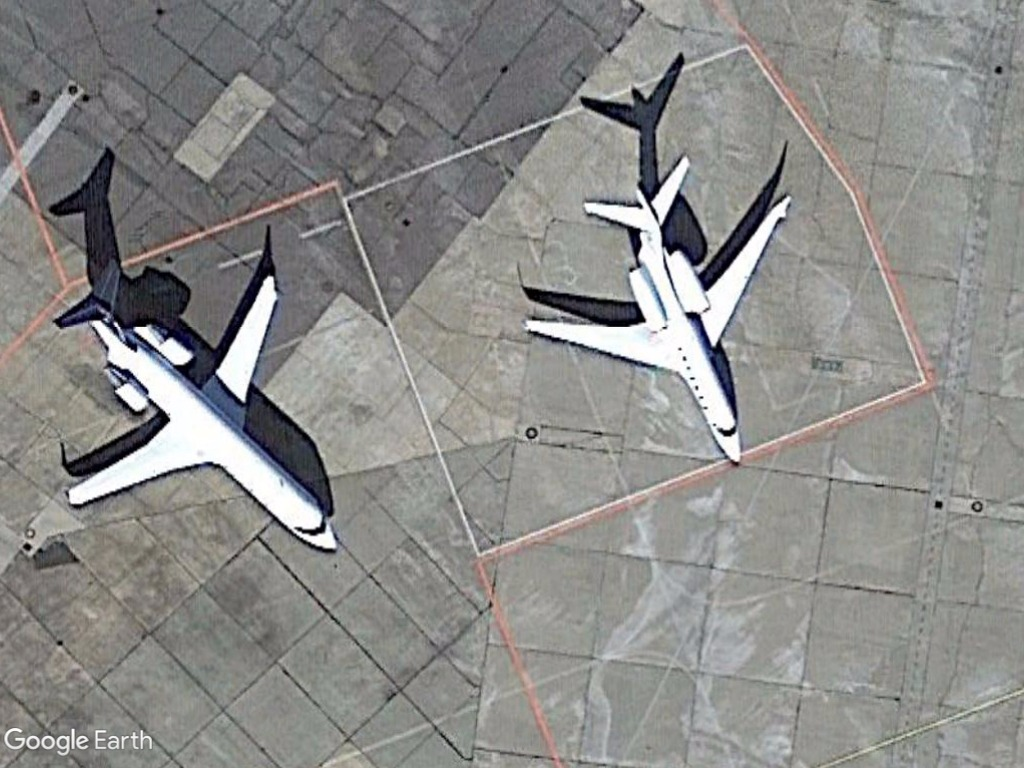chartered: (506, 152, 807, 472), (48, 251, 351, 566)
